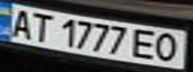1: (54, 16, 78, 47)
7: (106, 24, 133, 56), (90, 20, 112, 53), (72, 18, 93, 51)
A: (3, 7, 36, 39)
E: (130, 26, 163, 61)
O: (151, 30, 187, 63)
T: (24, 10, 57, 43)
